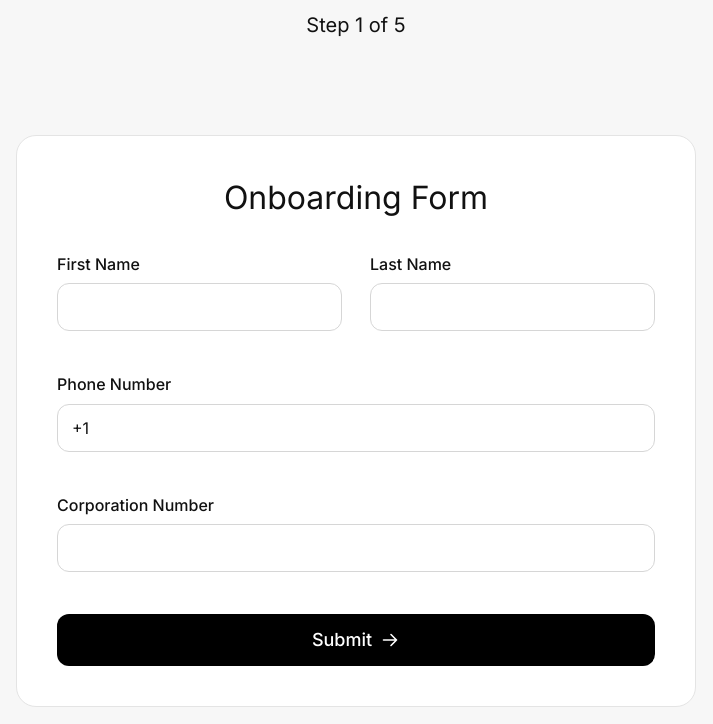
onboarding form › does not submit with an invalid corporation number
Type "Hello" into the field labelled "First Name".
click(200, 307); type("Hello")  # box [57,283,342,331]
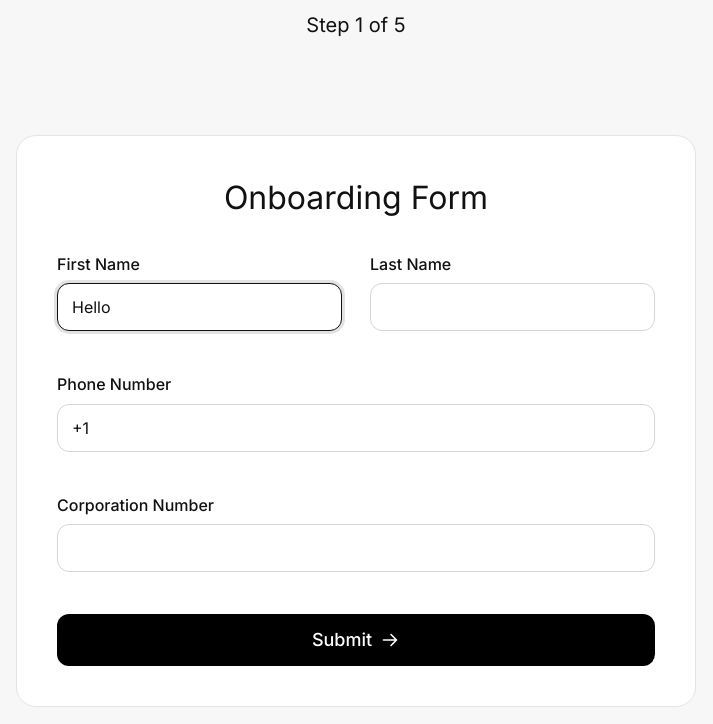
Type "World" into the field labelled "Last Name".
click(512, 307); type("World")  # box [370,283,655,331]
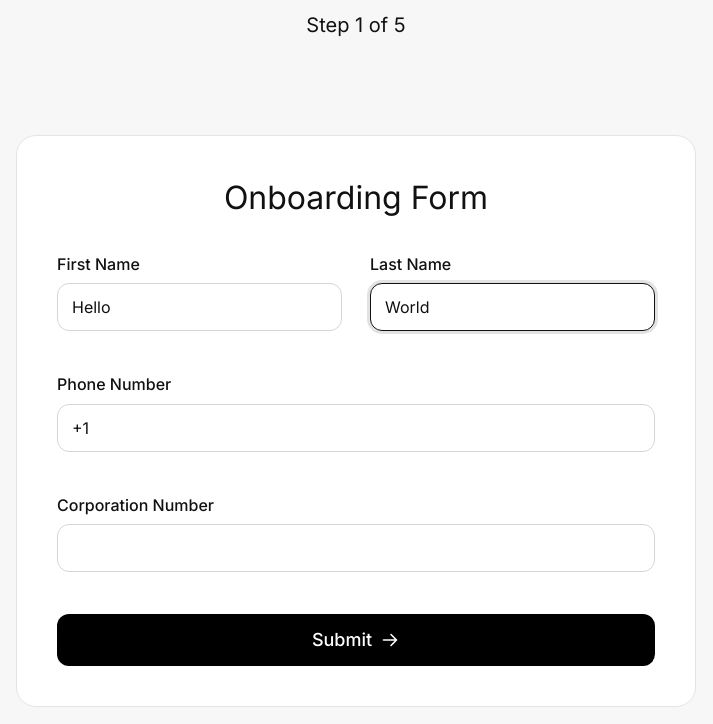
Type "3062776103" into the field labelled "Phone Number".
click(356, 428); type("3062776103")  # box [57,404,655,452]
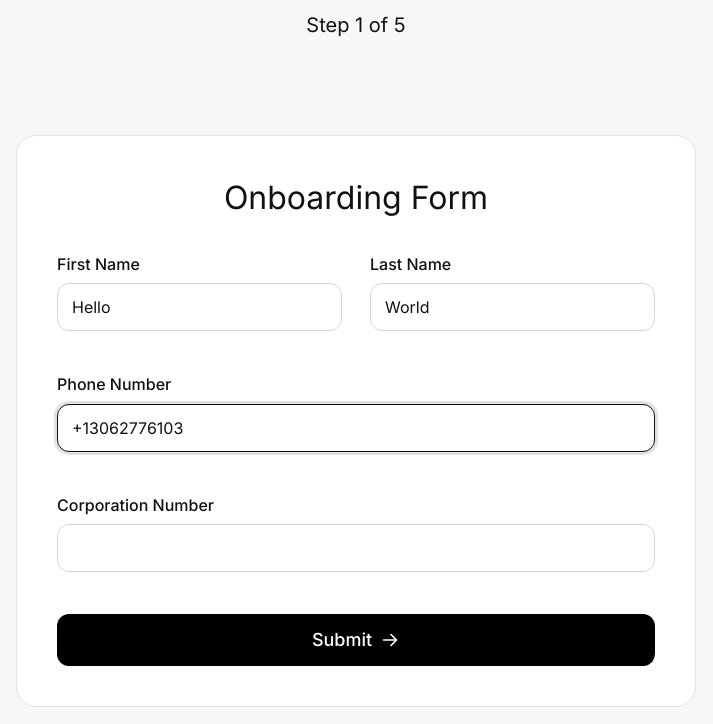
Type "000000000" into the field labelled "Corporation Number".
click(356, 548); type("000000000")  # box [57,524,655,572]
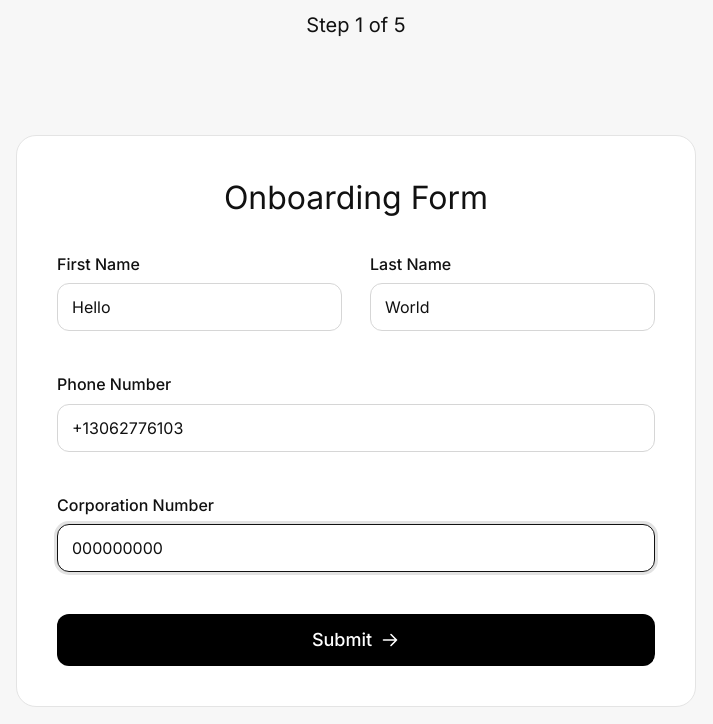
Click the button "Submit".
click(356, 640)  # box [57,614,655,666]
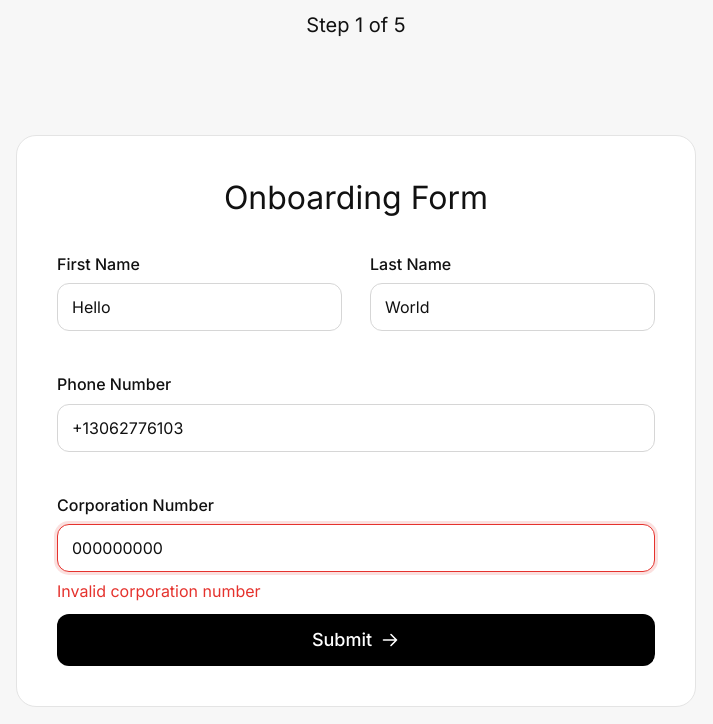
Check: the text "Invalid corporation number" is shown, box [57,581,261,601]
